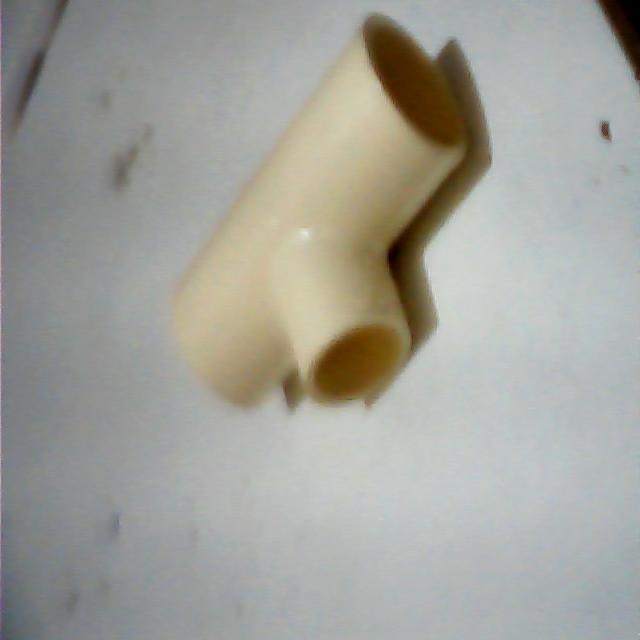T Joint: (172, 15, 469, 414)
